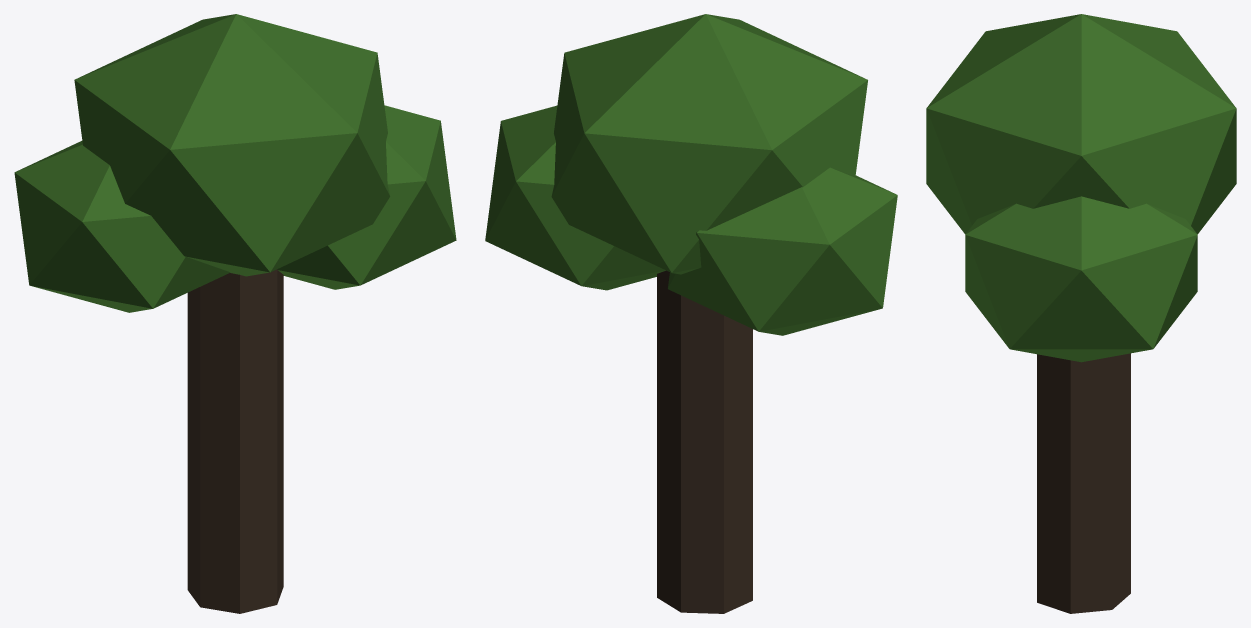
Rendered from oak_ancient.glb.
3 views of the same model, side by side, from view 1: azimuth 30°, elevation 25°; view 2: azimuth 150°, elevation 25°; view 3: azimuth 270°, elevation 25° (orthographic).
Parts seen in each view (by area): view 1: OakAncient; view 2: OakAncient; view 3: OakAncient.
Boxes of the visible parts, x1,y1,x2,y2 form: OakAncient: (14,14,456,613); OakAncient: (485,14,897,613); OakAncient: (926,14,1236,613).
Bounding box in the file's own units: 6.03 × 8.42 × 4.08.
